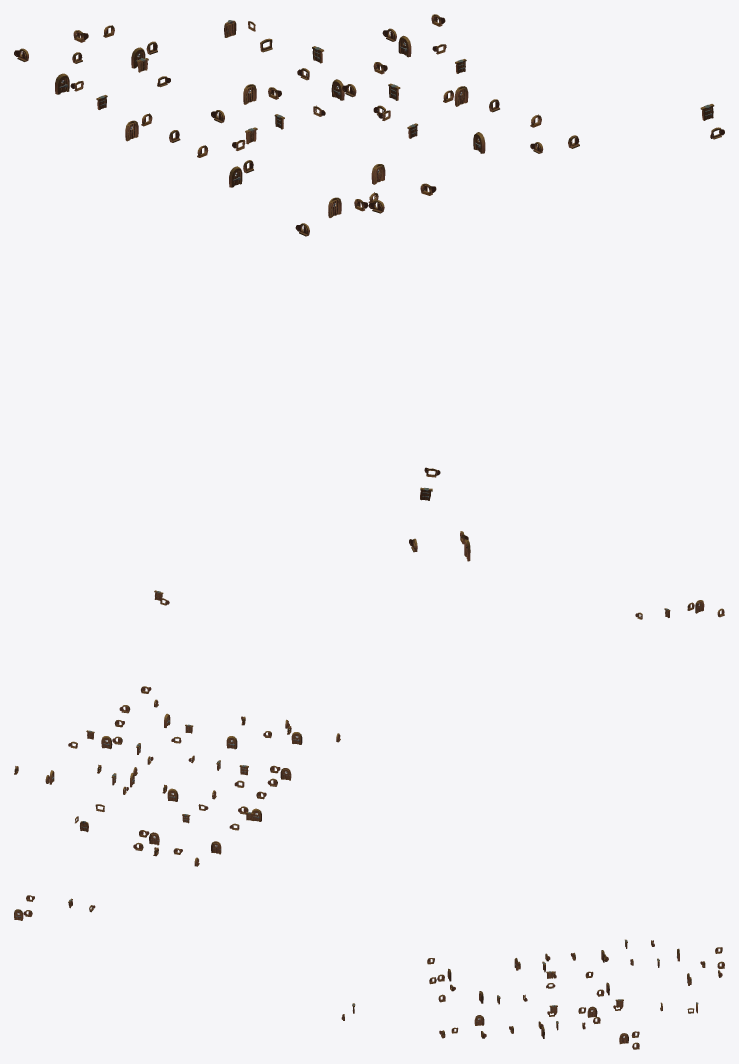
The model's file is WindowsAndDoors.FBX.
The picture shows the model from 3 angles, top to bottom: view 1: azimuth 30°, elevation 25°; view 2: azimuth 150°, elevation 25°; view 3: azimuth 270°, elevation 25°; orthographic projection. The views are drawn at different scales.
Visible parts, largest first — view 1: polySurface163; view 2: polySurface163; view 3: polySurface163.
Part boxes in pixels (x1=…): polySurface163: x1=14, y1=14, x2=724, y2=561; polySurface163: x1=14, y1=590, x2=724, y2=866; polySurface163: x1=14, y1=895, x2=724, y2=1049.
Size of the model in its own units: 332 by 61.47 by 603.
